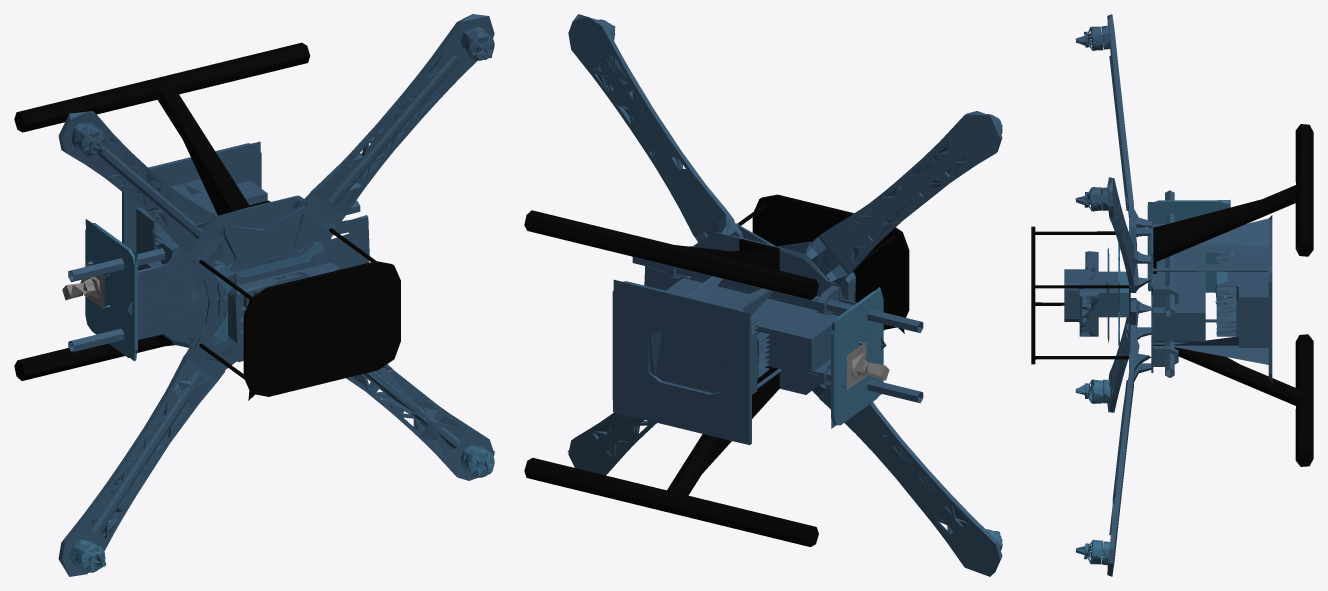
The model's file is ITM_Quadcopter.dae.
3 views of the same model, side by side, from view 1: azimuth 30°, elevation 25°; view 2: azimuth 150°, elevation 25°; view 3: azimuth 270°, elevation 25° (orthographic). The views are drawn at different scales.
Visible parts, largest first — view 1: node; view 2: node; view 3: node.
Boxes of the visible parts, x1=… form: node: x1=14, y1=14, x2=495, y2=576; node: x1=524, y1=14, x2=1002, y2=576; node: x1=1031, y1=14, x2=1313, y2=576.
Bounding box in the file's own units: 0.3819 × 0.3886 × 0.2527.
